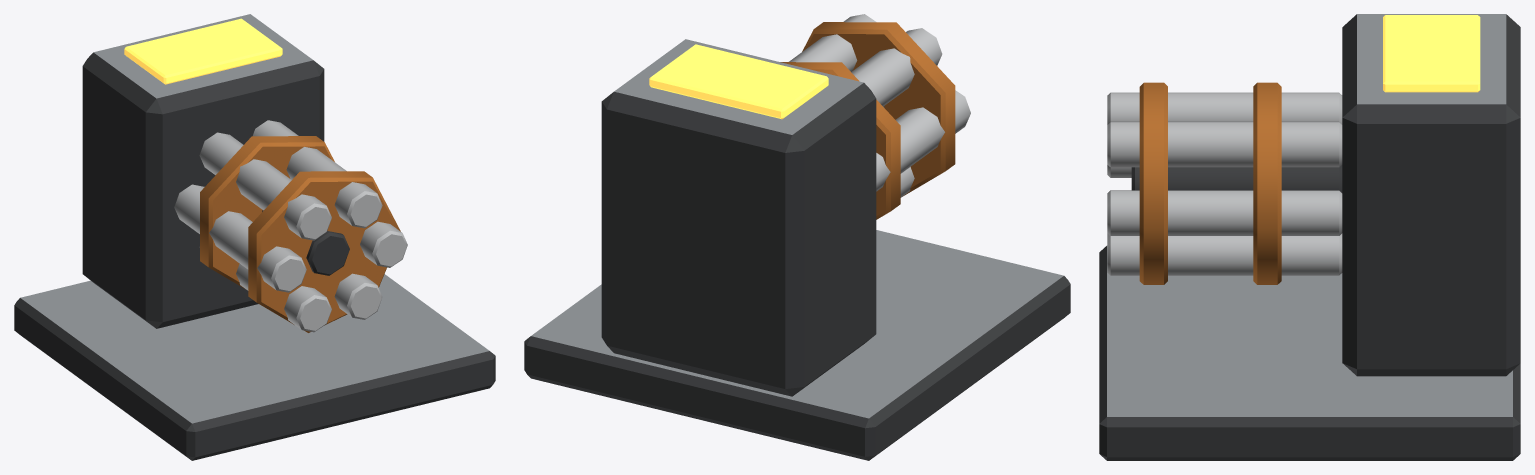
File: R4X_RapidFire_LOD1.fbx
3 renders of one model, left to right at view 1: azimuth 30°, elevation 25°; view 2: azimuth 150°, elevation 25°; view 3: azimuth 270°, elevation 25°, orthographic. The views are drawn at different scales.
Parts seen in each view (by area): view 1: R4X_RapidFire_LOD1; view 2: R4X_RapidFire_LOD1; view 3: R4X_RapidFire_LOD1.
Boxes of the visible parts, x1=… form: R4X_RapidFire_LOD1: x1=14, y1=14, x2=495, y2=460; R4X_RapidFire_LOD1: x1=524, y1=14, x2=1070, y2=460; R4X_RapidFire_LOD1: x1=1099, y1=14, x2=1520, y2=460.
Bounding box in the file's own units: 0.52 × 0.445 × 0.52.
